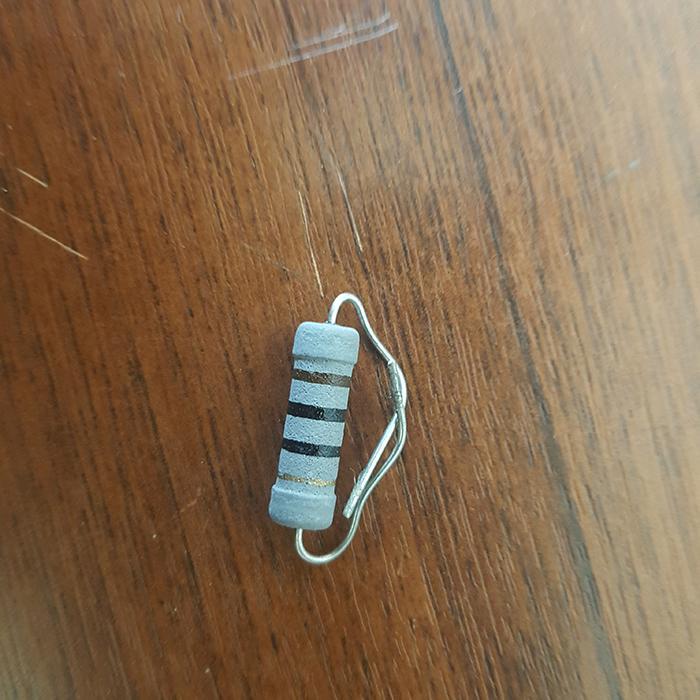resistor: (268, 320, 360, 530)
